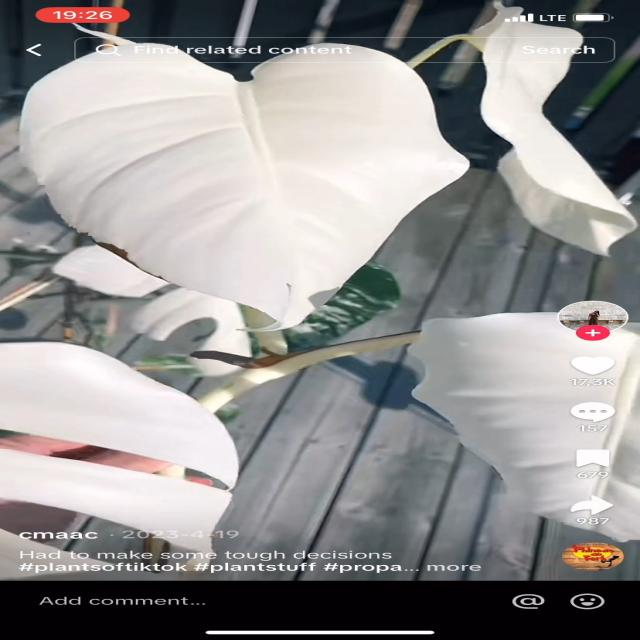lisc_variegata: (16, 39, 471, 329), (411, 313, 640, 542), (0, 343, 239, 538), (477, 0, 640, 260), (108, 289, 252, 358), (284, 266, 400, 349), (53, 245, 171, 298)
roslina_variegata: (0, 16, 640, 552)
